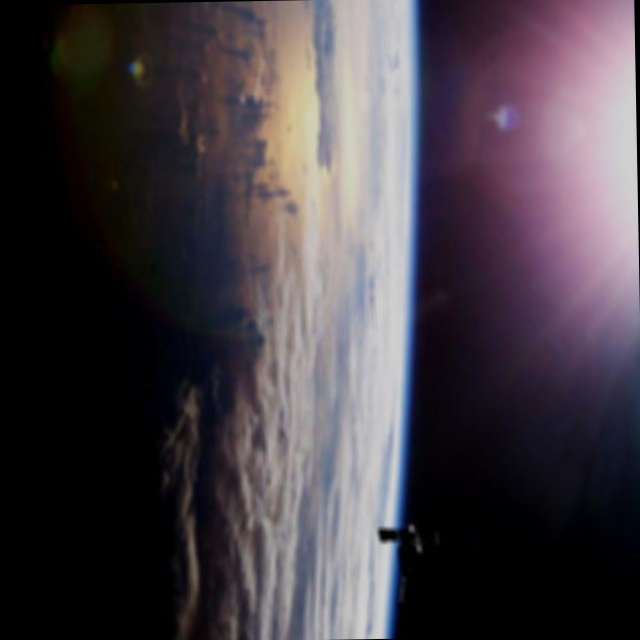satellite: (351, 513, 493, 566)
